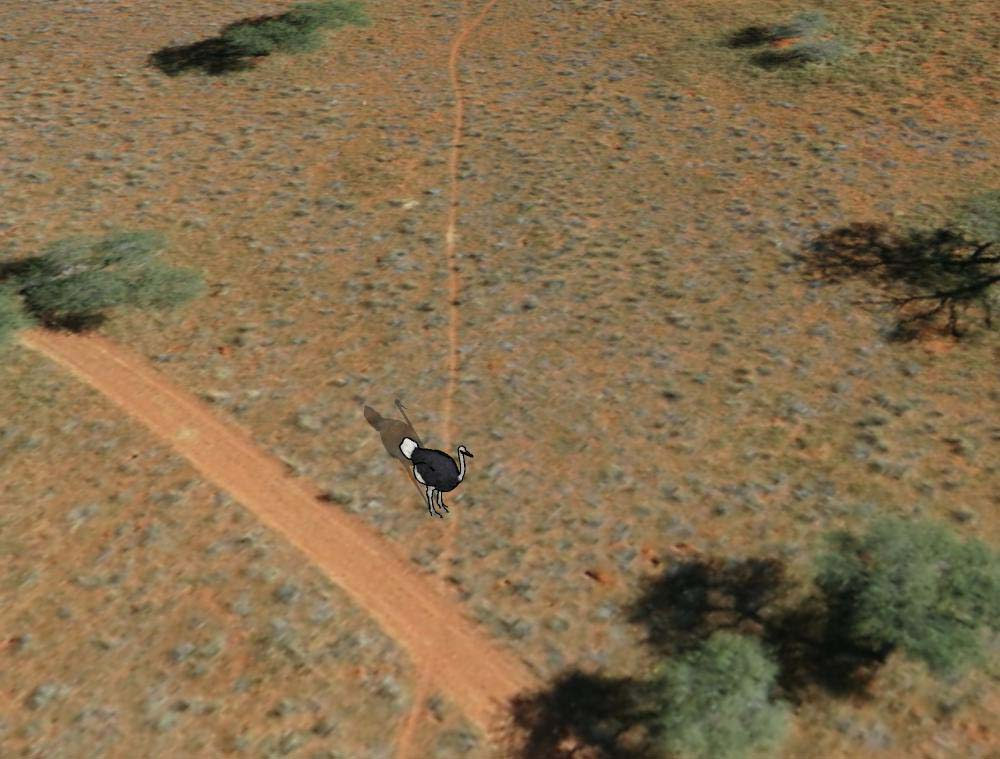springbok: (398, 434, 477, 524)
